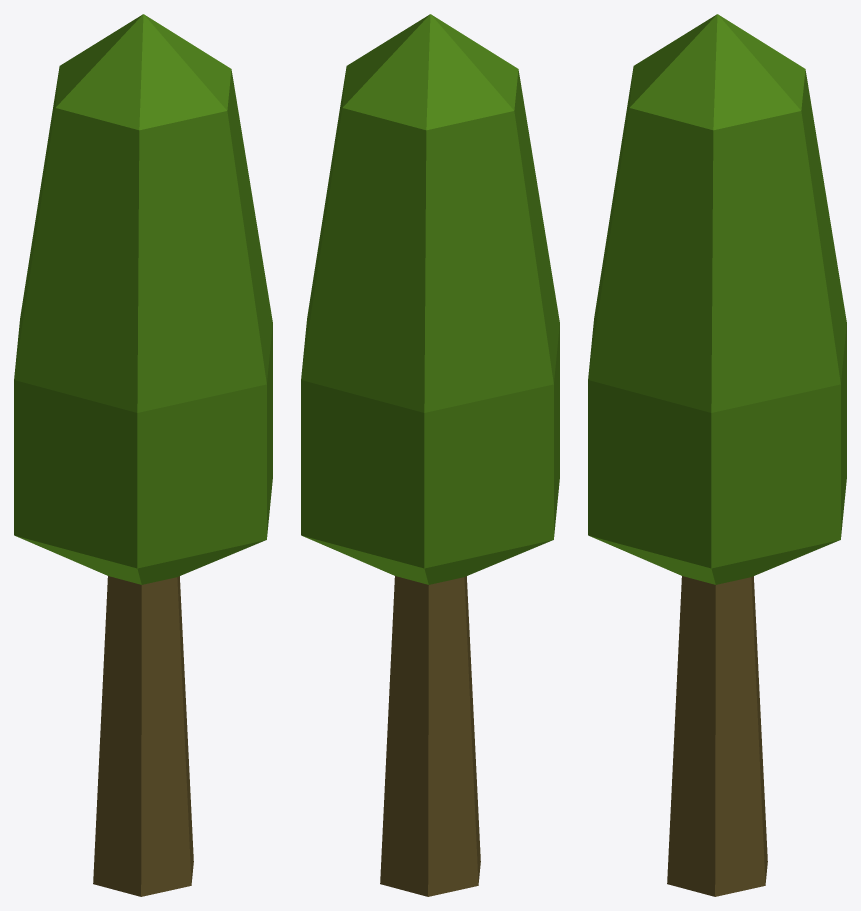
Rendered from treeTall.dae.
3 views of the same model, side by side, from view 1: azimuth 30°, elevation 25°; view 2: azimuth 150°, elevation 25°; view 3: azimuth 270°, elevation 25° (orthographic).
Parts seen in each view (by area): view 1: Tree_Generic_Spring_02; view 2: Tree_Generic_Spring_02; view 3: Tree_Generic_Spring_02.
Boxes of the visible parts, x1=… form: Tree_Generic_Spring_02: x1=14, y1=14, x2=272, y2=896; Tree_Generic_Spring_02: x1=301, y1=14, x2=559, y2=896; Tree_Generic_Spring_02: x1=588, y1=14, x2=846, y2=896.
Size of the model in its own units: 176 by 572 by 156.
